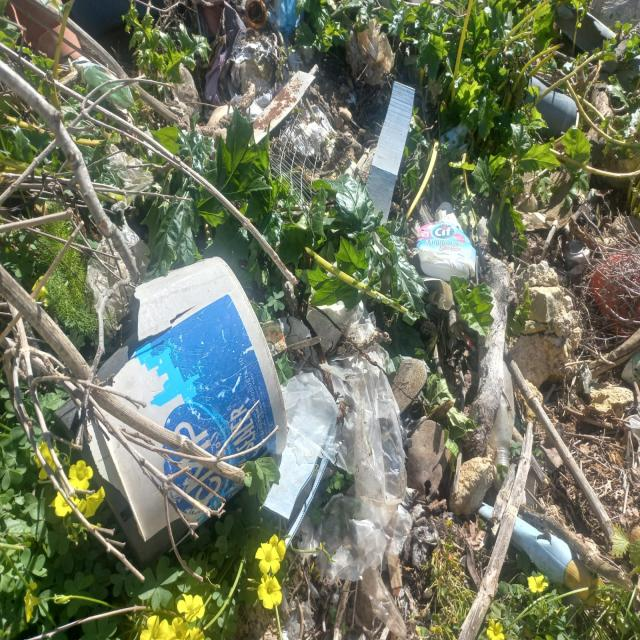Bottle: (524, 72, 579, 140), (489, 360, 516, 471)
Carton: (365, 83, 416, 219)
Other litter: (178, 0, 400, 226), (562, 182, 640, 339), (4, 0, 86, 68), (435, 122, 471, 153)
Other plastic: (60, 256, 291, 567), (257, 300, 458, 638), (478, 499, 610, 608), (556, 0, 640, 88), (418, 197, 476, 282), (61, 0, 169, 39)
